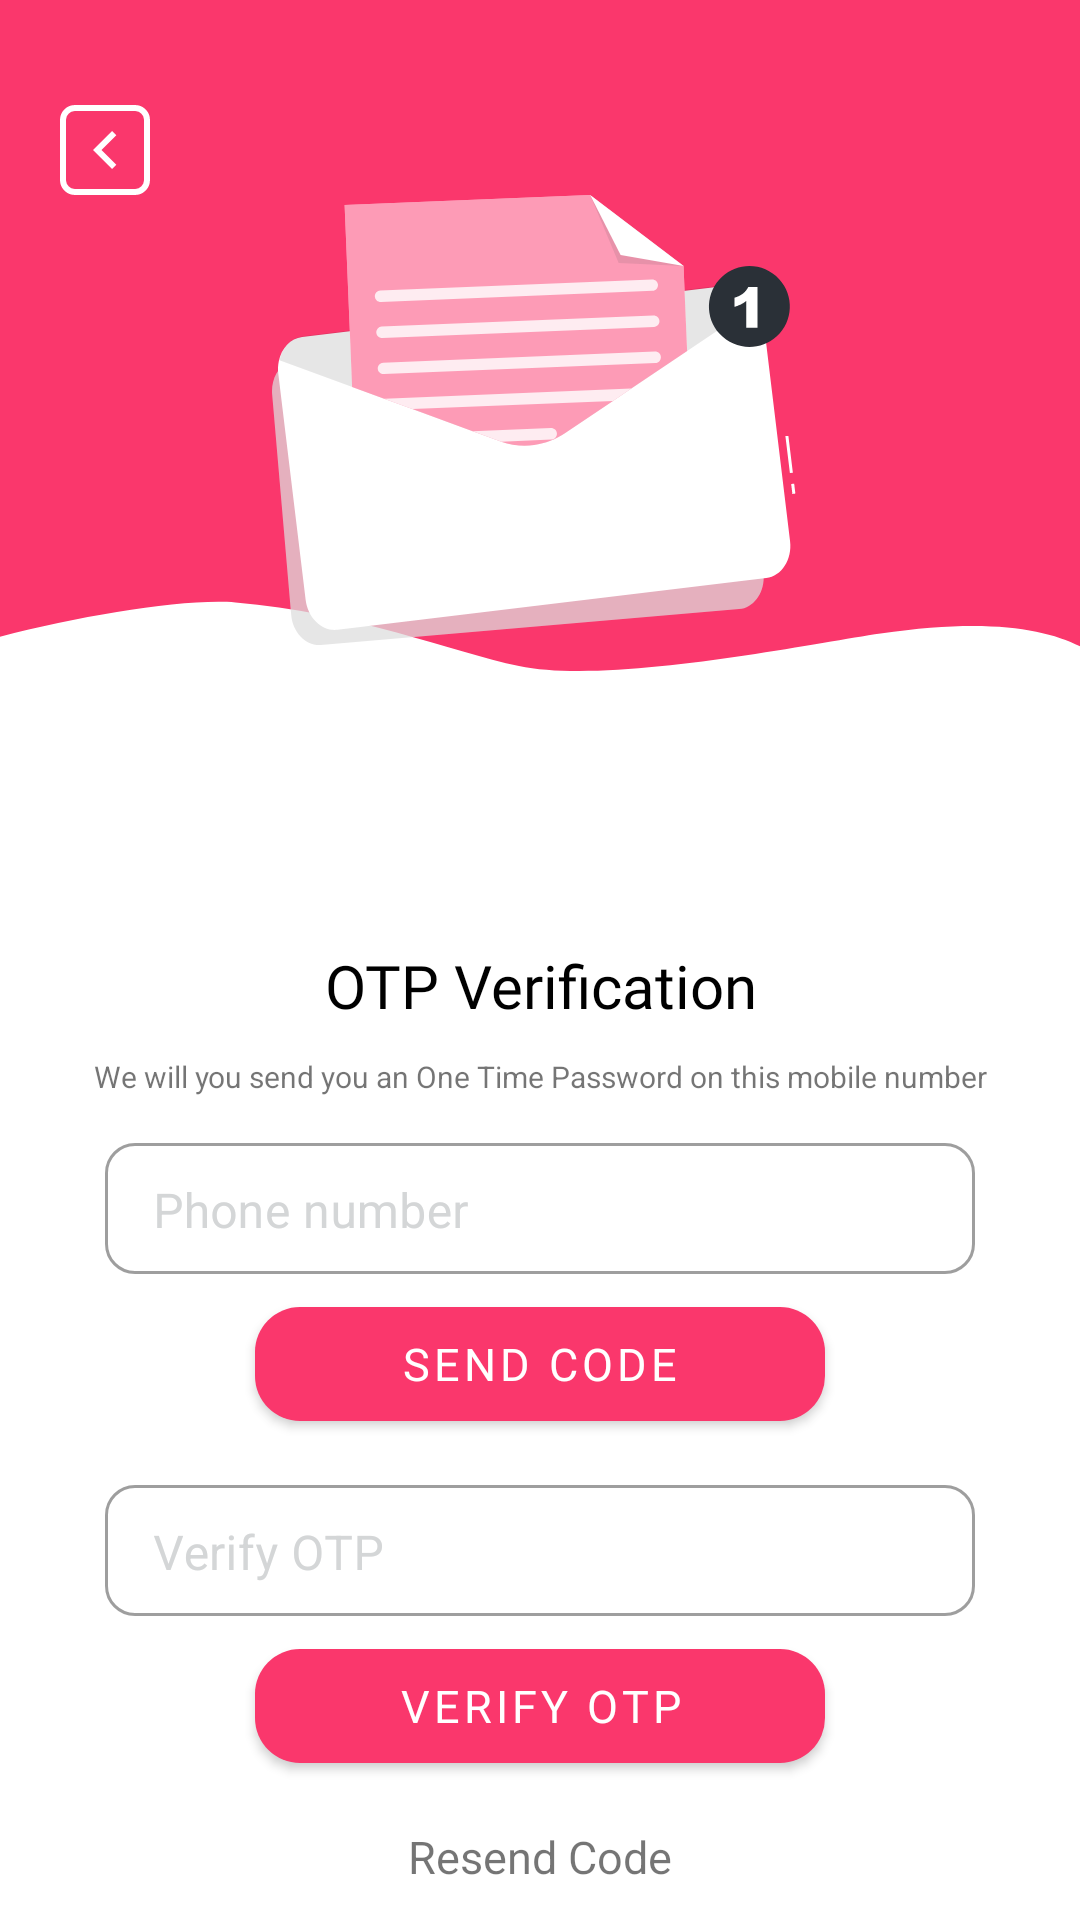

Named icons in this screenshot (1080px×1920px) and their bounding boxes, (x1, y1, x2, y2):
back bnt: (60, 105, 150, 195)
